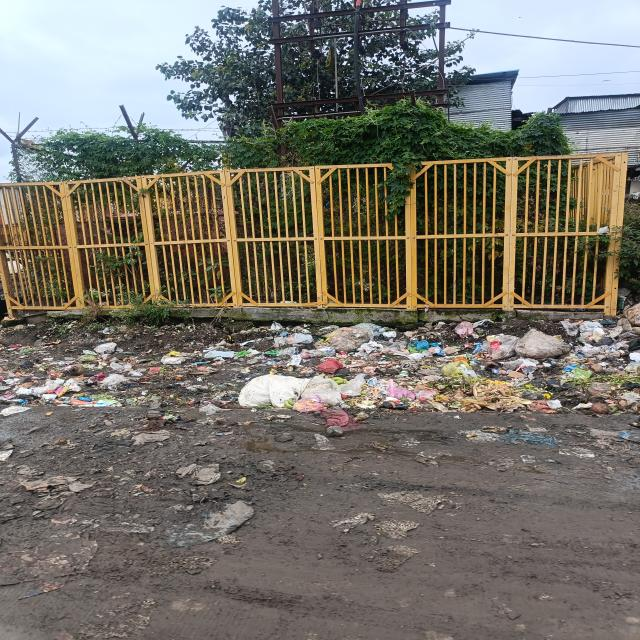garbage: (9, 313, 640, 421)
